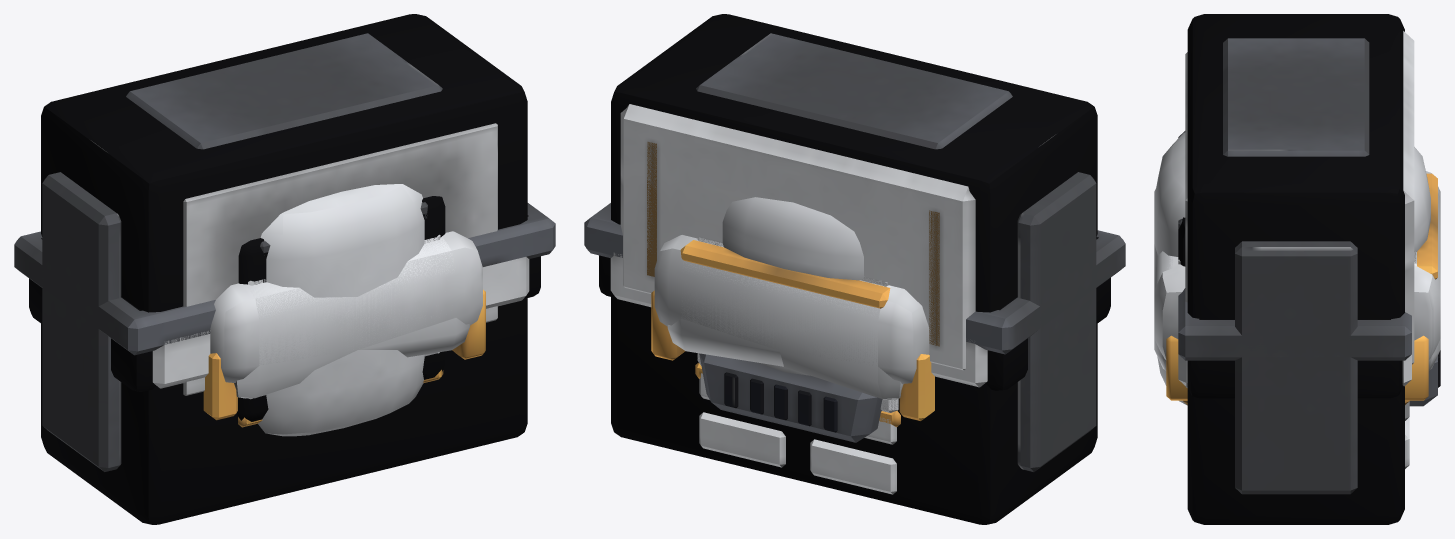
The model's file is Trooper.fbx.
3 renders of one model, left to right at view 1: azimuth 30°, elevation 25°; view 2: azimuth 150°, elevation 25°; view 3: azimuth 270°, elevation 25°, orthographic. The views are drawn at different scales.
Parts seen in each view (by area): view 1: UpperTorso.001, Head.001, PadL.001, LowerTorso.001, PadR.001, RightUpperLeg.001, LeftUpperLeg.001; view 2: UpperTorso.001, Head.001, PadL.001, PadR.001, LowerTorso.001; view 3: UpperTorso.001, LowerTorso.001, Head.001, PadL.001, PadR.001, LeftUpperLeg.001.
Part boxes in pixels (box(x1,y1,x2,y2)): UpperTorso.001: box(41, 14, 527, 524); Head.001: box(258, 184, 424, 436); PadL.001: box(203, 231, 482, 420); LowerTorso.001: box(14, 203, 555, 391); PadR.001: box(210, 237, 485, 382); RightUpperLeg.001: box(237, 198, 427, 421); LeftUpperLeg.001: box(260, 196, 445, 418); UpperTorso.001: box(611, 14, 1097, 524); Head.001: box(680, 197, 890, 442); PadL.001: box(654, 235, 934, 420); PadR.001: box(651, 263, 929, 383); LowerTorso.001: box(584, 203, 1125, 390); UpperTorso.001: box(1178, 14, 1414, 524); LowerTorso.001: box(1178, 131, 1411, 398); Head.001: box(1154, 132, 1440, 406); PadL.001: box(1154, 192, 1440, 359); PadR.001: box(1154, 171, 1440, 400); LeftUpperLeg.001: box(1178, 217, 1185, 266).
Bounding box in the file's own units: 2 × 1.6 × 1.2.
Materials: 1 (1 with a texture image).
